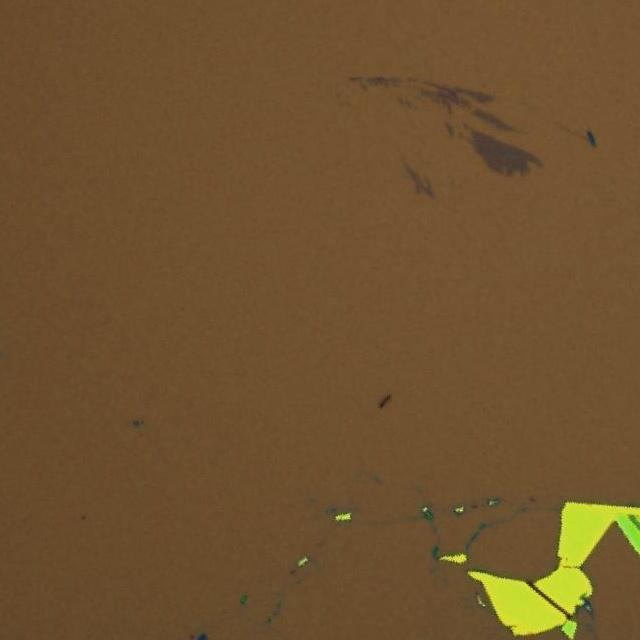monolayer-eWW4: (468, 126, 542, 178), (398, 156, 436, 200), (471, 106, 520, 133), (455, 85, 494, 104), (442, 118, 456, 138)
